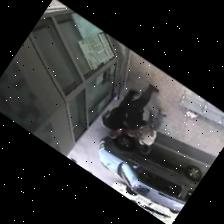person: (124, 83, 158, 135), (102, 89, 138, 137), (138, 109, 166, 153)
